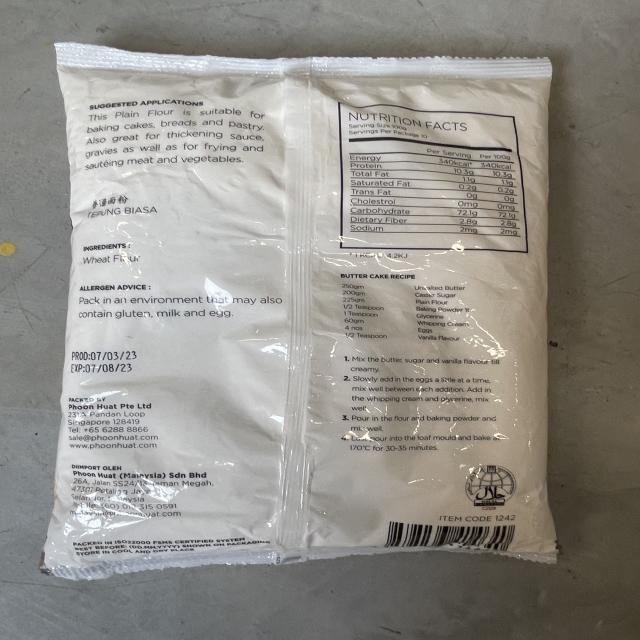object_name: (66, 52, 550, 557)
